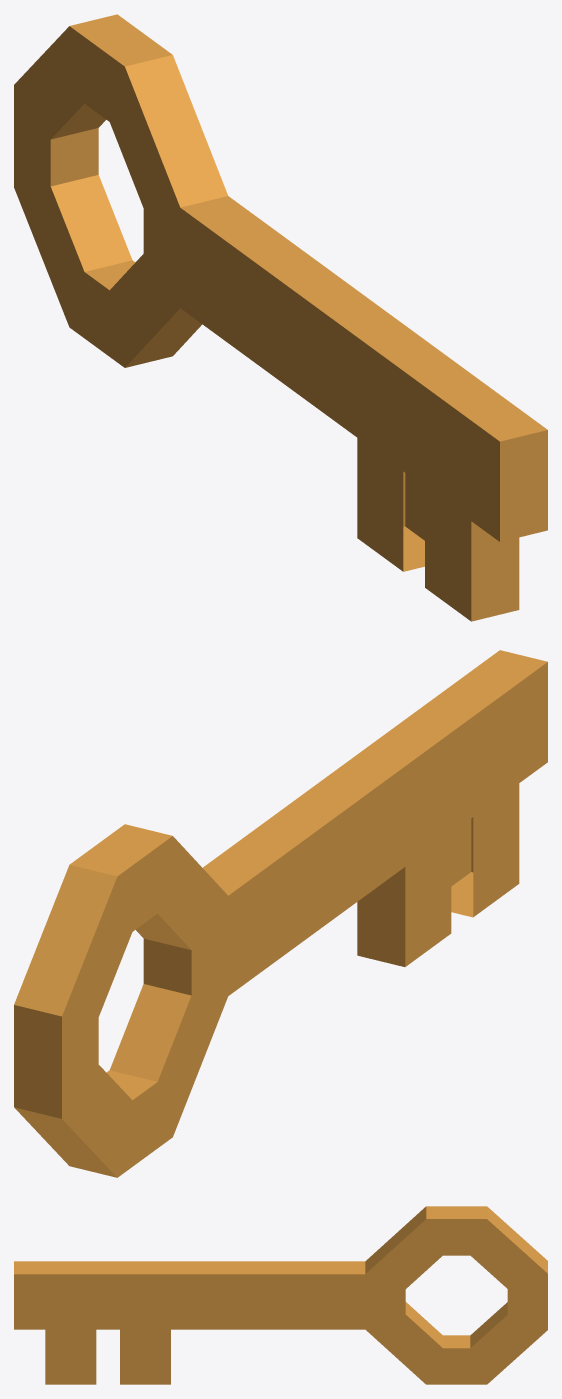
Rendered from key.glb.
The picture shows the model from 3 angles, top to bottom: view 1: azimuth 30°, elevation 25°; view 2: azimuth 150°, elevation 25°; view 3: azimuth 270°, elevation 25°; orthographic projection. The views are drawn at different scales.
Parts seen in each view (by area): view 1: Cube; view 2: Cube; view 3: Cube.
Boxes of the visible parts, x1,y1,x2,y2 form: Cube: (14, 14, 547, 621); Cube: (14, 650, 547, 1177); Cube: (14, 1206, 547, 1384).
Bounding box in the file's own units: 0.5 × 3 × 8.77.
